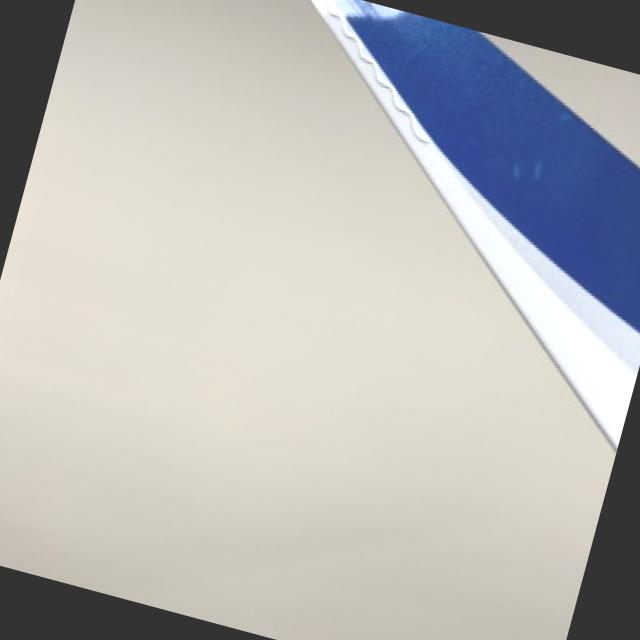healthy: (316, 0, 640, 444)
